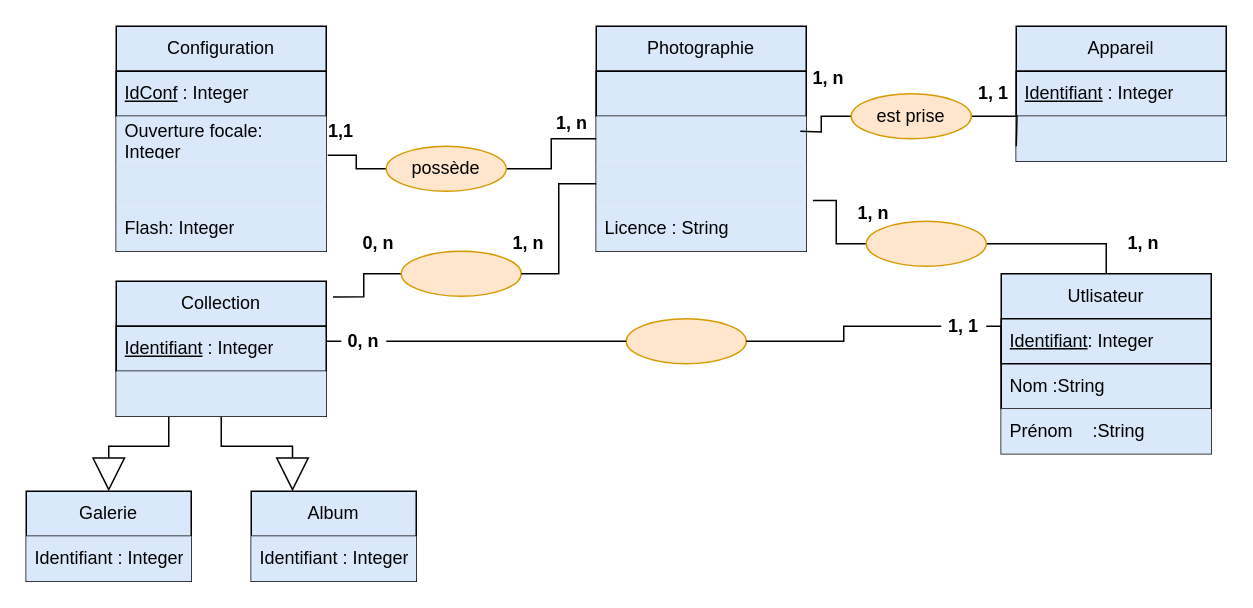
The diagram is 1253 pixels wide and 608 high, and some of its shapes have lost their labels. Each missing label, with the centre of its shape:
appartient: pixel 685 340
Code : Integer: pixel 700 93
Date réalisation : Date: pixel 701 183
est publié: pixel 925 243
est rangé: pixel 460 273
Lieu : String: pixel 701 138
marque : String: pixel 1121 138
Nom : String: pixel 221 393
Temps exposition: String: pixel 221 183
